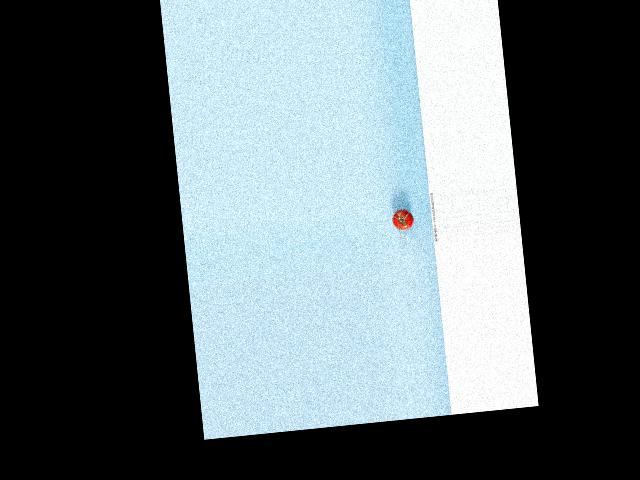tomato: (391, 208, 415, 230)
